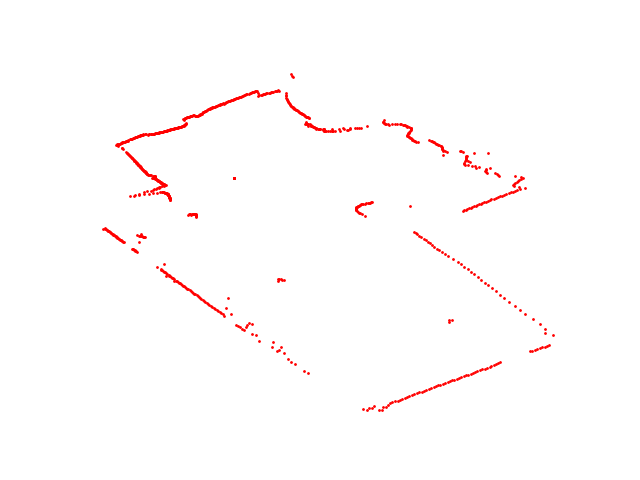person: (354, 199, 414, 219)
